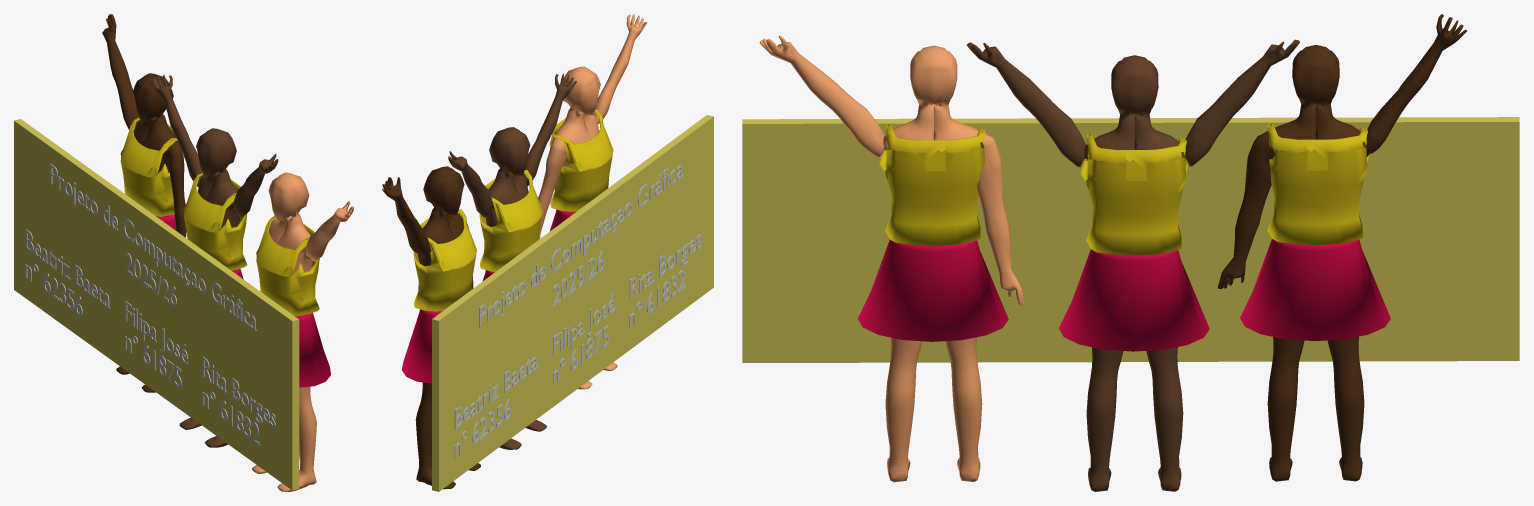
Rendered from GirlTrio-checkpoint.obj.
The picture shows the model from 3 angles, left to right: view 1: azimuth 30°, elevation 25°; view 2: azimuth 150°, elevation 25°; view 3: azimuth 270°, elevation 25°; orthographic projection. The views are drawn at different scales.
Visible parts, largest first — view 1: GirlTrio; view 2: GirlTrio; view 3: GirlTrio.
Part boxes in pixels (box(x1,y1,x2,y2)): GirlTrio: box(14, 14, 353, 491); GirlTrio: box(382, 14, 713, 491); GirlTrio: box(742, 14, 1519, 491).
Bounding box in the file's own units: 1.71 × 5.34 × 7.95.
